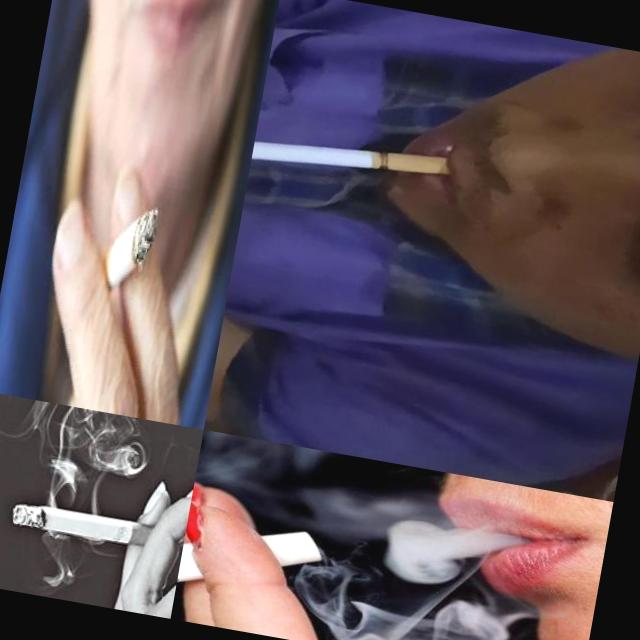smoke: (170, 510, 328, 640), (250, 121, 456, 200), (9, 500, 181, 553), (88, 195, 162, 309)
